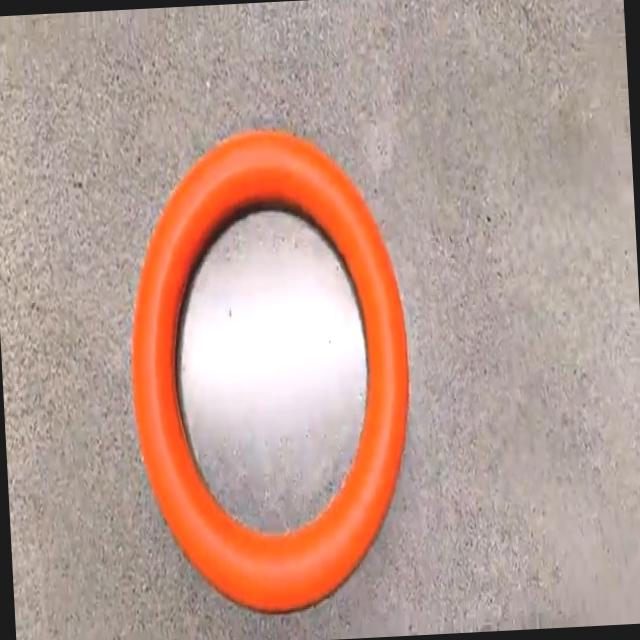note: (132, 131, 409, 612)
